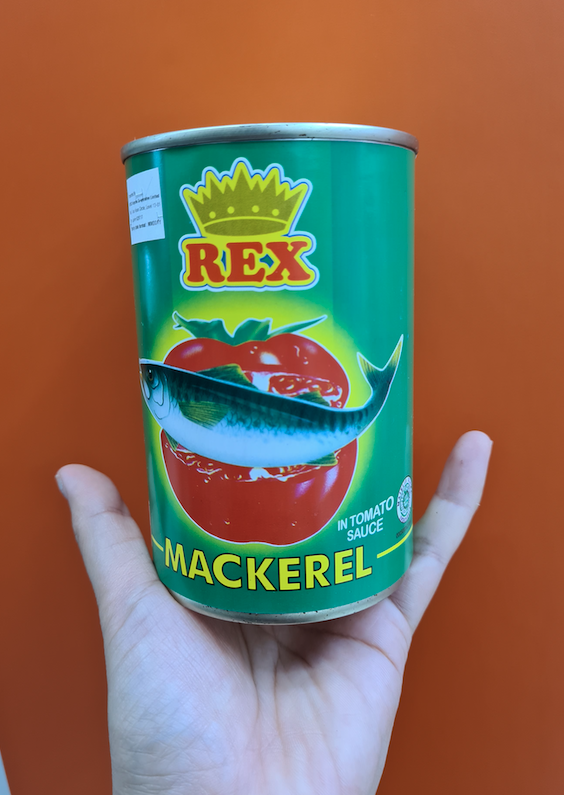Canned_Sardines_and_Mackerel: (134, 139, 416, 597)
